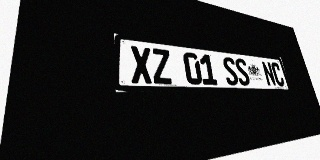0: (182, 52, 203, 85)
1: (198, 54, 218, 85)
C: (270, 62, 285, 86)
N: (261, 61, 277, 86)
S: (221, 56, 240, 85), (234, 58, 251, 86)
X: (130, 45, 153, 84)
Z: (151, 48, 173, 84)
